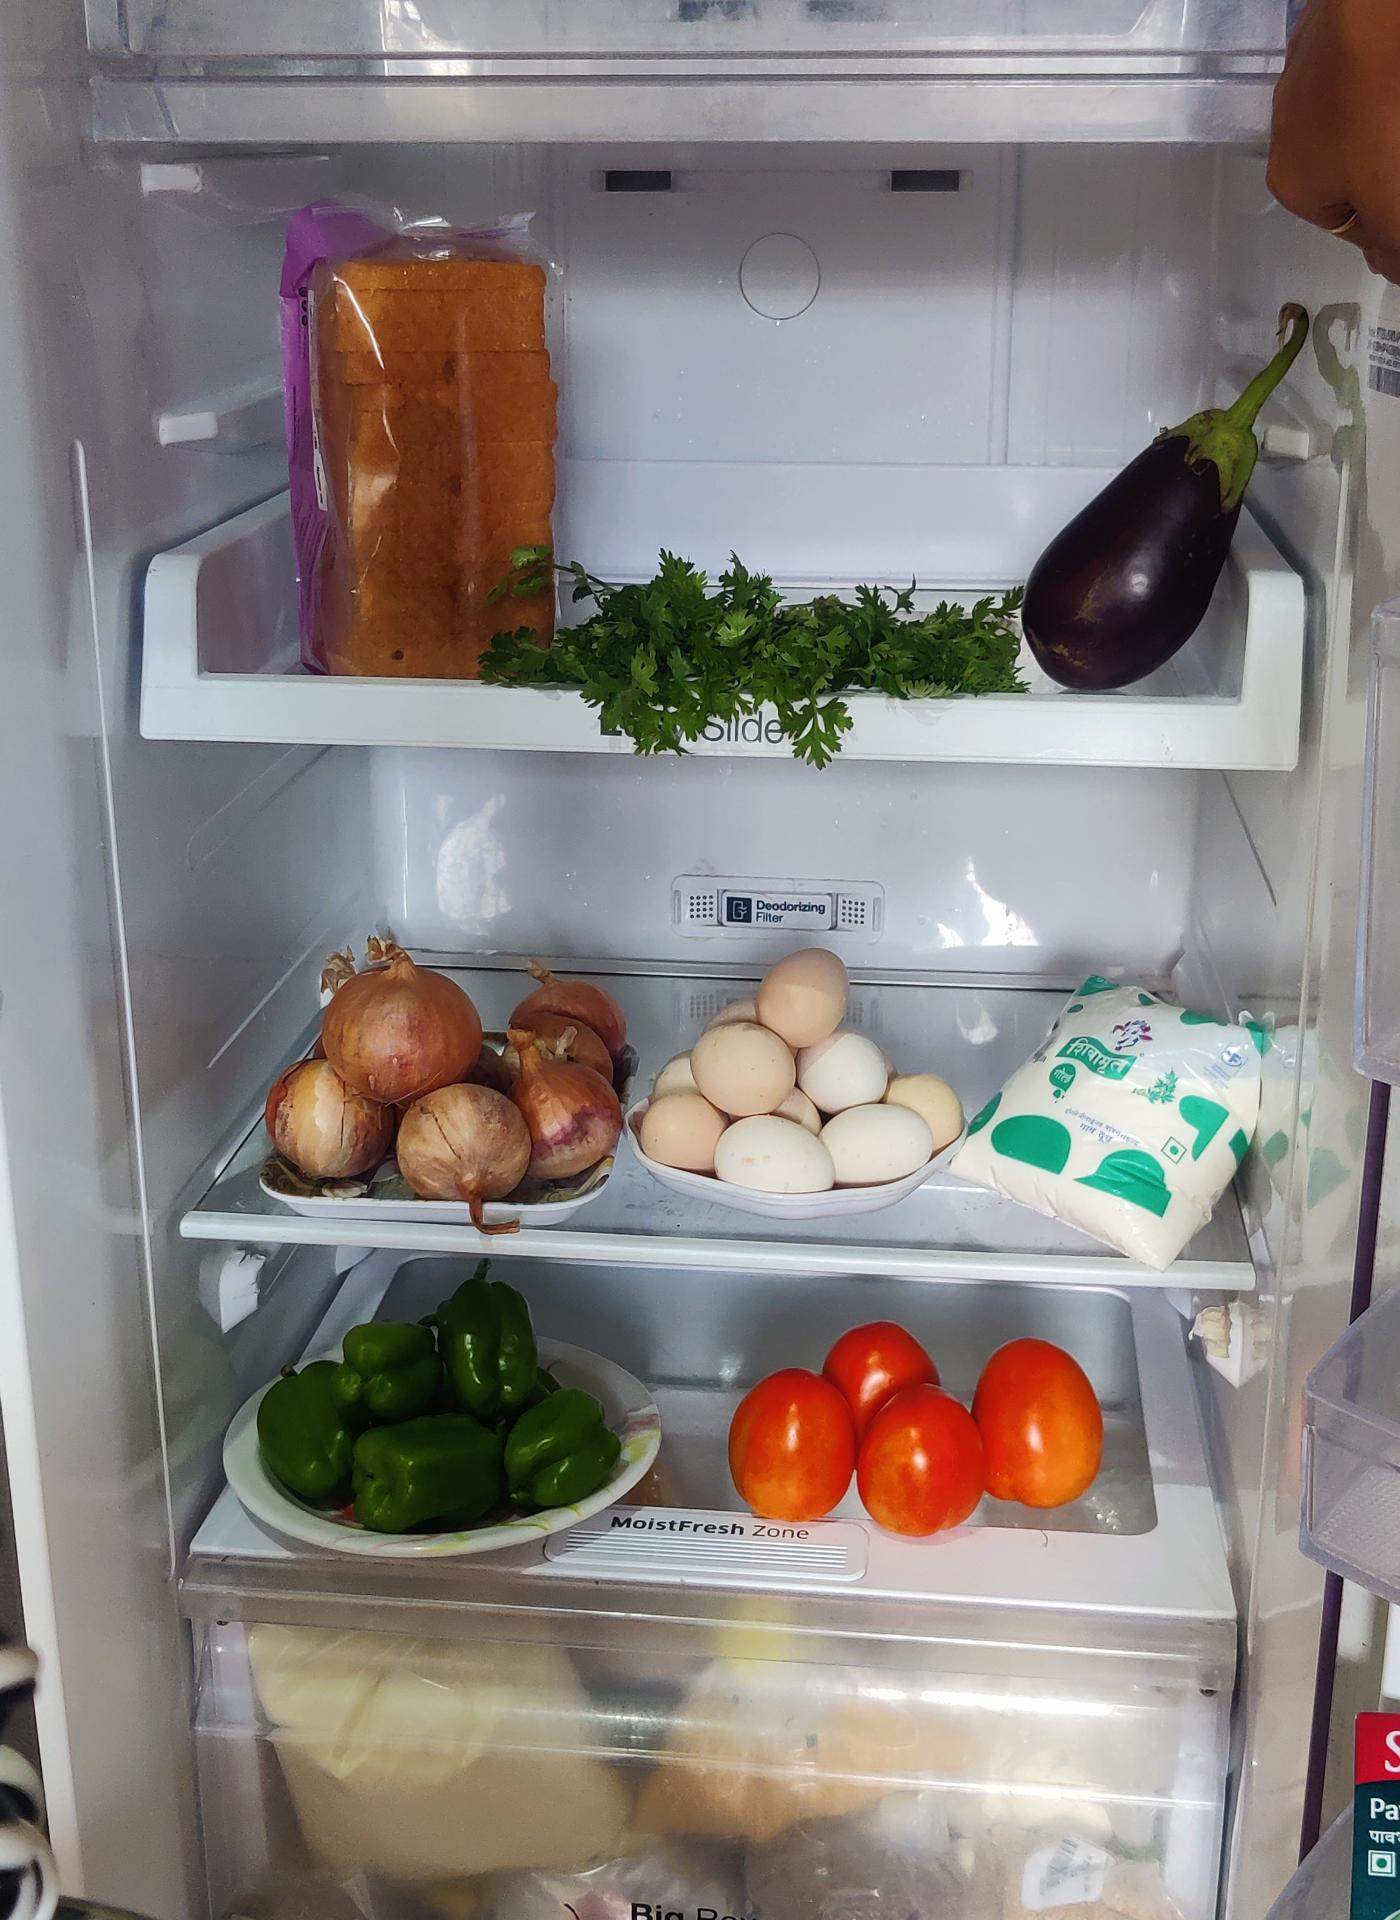bread: (282, 206, 573, 665)
brinjal: (1023, 404, 1263, 696)
capsicum: (259, 1283, 638, 1537)
coriander: (570, 562, 1015, 723)
egg: (637, 964, 956, 1207)
milk: (968, 975, 1263, 1258)
onion: (267, 929, 638, 1200)
tomato: (729, 1324, 1112, 1538)
